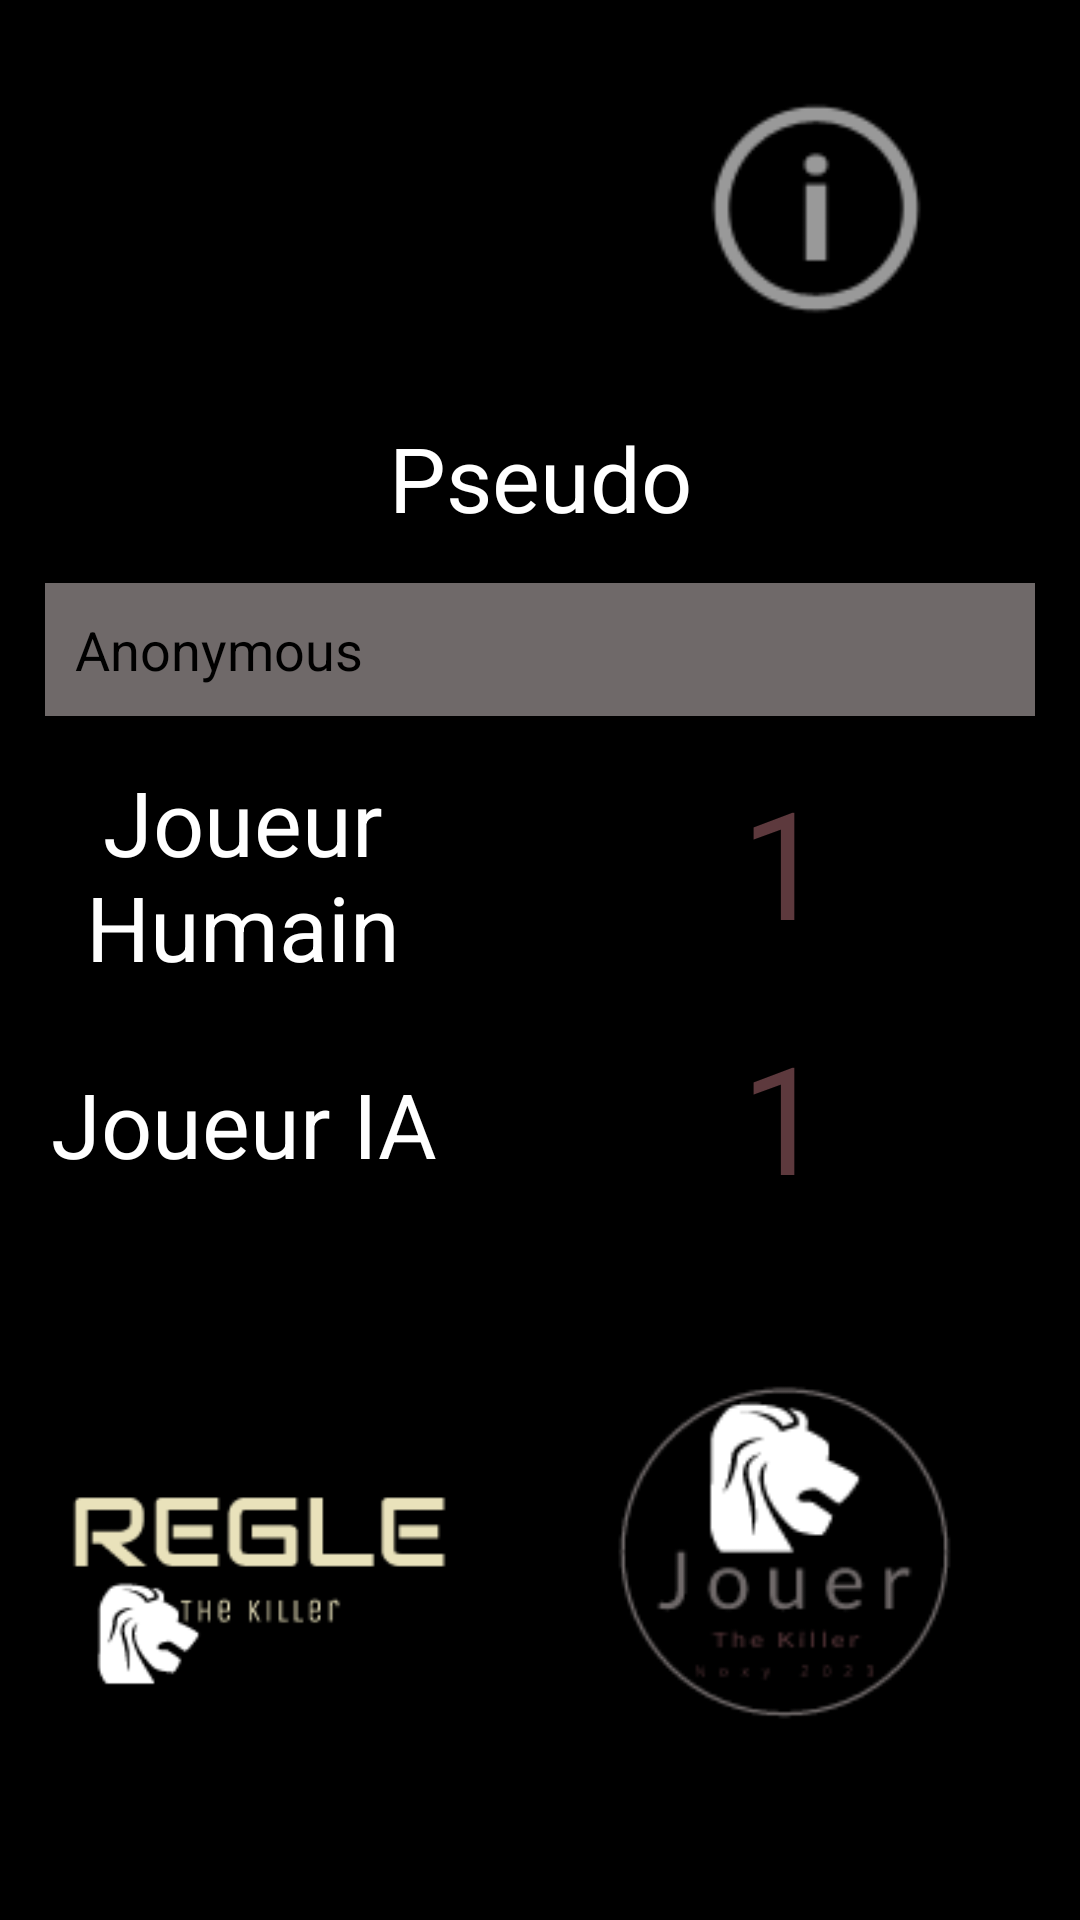

Icon bounding boxes for this 1080w x 1920h phone screenshot, format detection(x1, y1, x2, y2):
info details: detection(712, 105, 920, 312)
